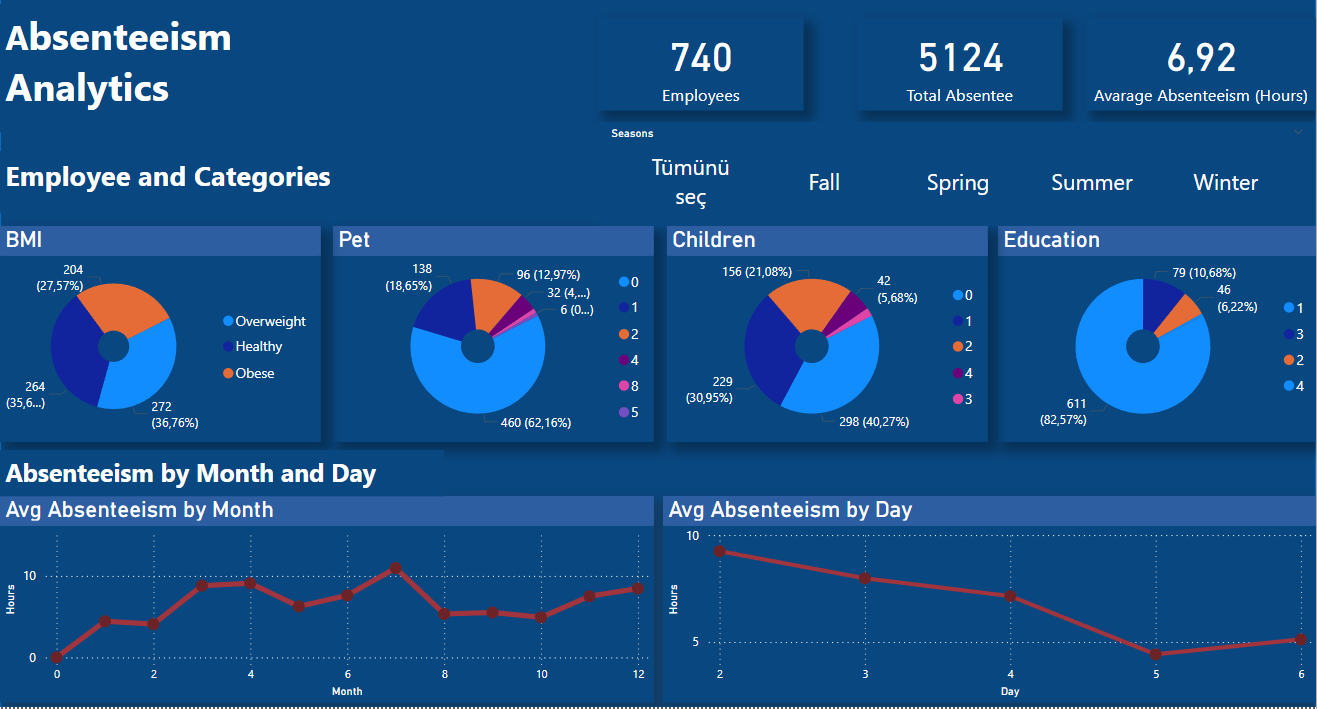

Layout of this report page (visuals, bound fields, positions):
{"tool":"powerbi","page":{"name":"1. sayfa","canvas":[1280,720],"ordinal":0},"visuals":[{"type":"shape","box":[0,29,1280,691.5],"z":0},{"type":"card","fields":{"Values":["Avg(Sorgu1.absenteeism_time_in_hours)"]},"box":[1056.2,50,223.8,89.9],"z":1000},{"type":"donutChart","title":"Pet","fields":{"Y":["CountNonNull(Sorgu1.pet)"],"Category":["Sorgu1.pet"]},"box":[323.7,251.8,311.8,209.8],"z":2000},{"type":"donutChart","title":"Education","fields":{"Y":["CountNonNull(Sorgu1.education)"],"Category":["Sorgu1.education"]},"box":[970.9,251.8,312,210],"z":3000},{"type":"donutChart","title":"BMI","fields":{"Category":["Sorgu1.bmi"],"Y":["CountNonNull(Sorgu1.bmi)"]},"box":[0.2,252,312,210],"z":4000},{"type":"donutChart","title":"Children","fields":{"Y":["CountNonNull(Sorgu1.son)"],"Category":["Sorgu1.son"]},"box":[648.5,251.8,311.8,209.8],"z":5000},{"type":"textbox","box":[0,36,243.8,124.9],"z":6000},{"type":"card","fields":{"Values":["CountNonNull(Sorgu1.ID)"]},"box":[581.5,50,200,90],"z":7000},{"type":"card","fields":{"Values":["Sum(Sorgu1.absenteeism_time_in_hours)"]},"box":[833.3,50,200,90],"z":8000},{"type":"textbox","box":[0,178.9,335.7,60],"z":9000},{"type":"lineChart","title":"Avg Absenteeism by Month","fields":{"Category":["Sorgu1.month_of_absence"],"Y":["Sorgu1.Avg Absenteeism"]},"box":[0,514.6,635.5,200.8],"z":10000},{"type":"lineChart","title":"Avg Absenteeism by Day","fields":{"Category":["Sorgu1.day_of_the_week"],"Y":["Sorgu1.Avg Absenteeism"]},"box":[644.5,514.6,635.5,200.8],"z":10001},{"type":"slicer","fields":{"Values":["Sorgu1.season_names"]},"box":[581.5,150.9,698.5,100.9],"z":10002},{"type":"textbox","box":[0,469.6,431.7,45],"z":10003}]}

Visuals, with their boxes on the page's 1280x720 design canvas (x1, y1, x2, y2). These are canvas units, not pixel positions in the 1317x709 screenshot, which may show the page scaled, cropped or inside an application window:
shape: x1=0, y1=29, x2=1280, y2=720
card - Avg(Sorgu1.absenteeism_time_in_hours): x1=1056, y1=50, x2=1280, y2=140
"Pet" donutChart: x1=324, y1=252, x2=636, y2=462
"Education" donutChart: x1=971, y1=252, x2=1283, y2=462
"BMI" donutChart: x1=0, y1=252, x2=312, y2=462
"Children" donutChart: x1=648, y1=252, x2=960, y2=462
textbox: x1=0, y1=36, x2=244, y2=161
card - CountNonNull(Sorgu1.ID): x1=582, y1=50, x2=782, y2=140
card - Sum(Sorgu1.absenteeism_time_in_hours): x1=833, y1=50, x2=1033, y2=140
textbox: x1=0, y1=179, x2=336, y2=239
"Avg Absenteeism by Month" lineChart: x1=0, y1=515, x2=636, y2=715
"Avg Absenteeism by Day" lineChart: x1=644, y1=515, x2=1280, y2=715
slicer - Sorgu1.season_names: x1=582, y1=151, x2=1280, y2=252
textbox: x1=0, y1=470, x2=432, y2=515
